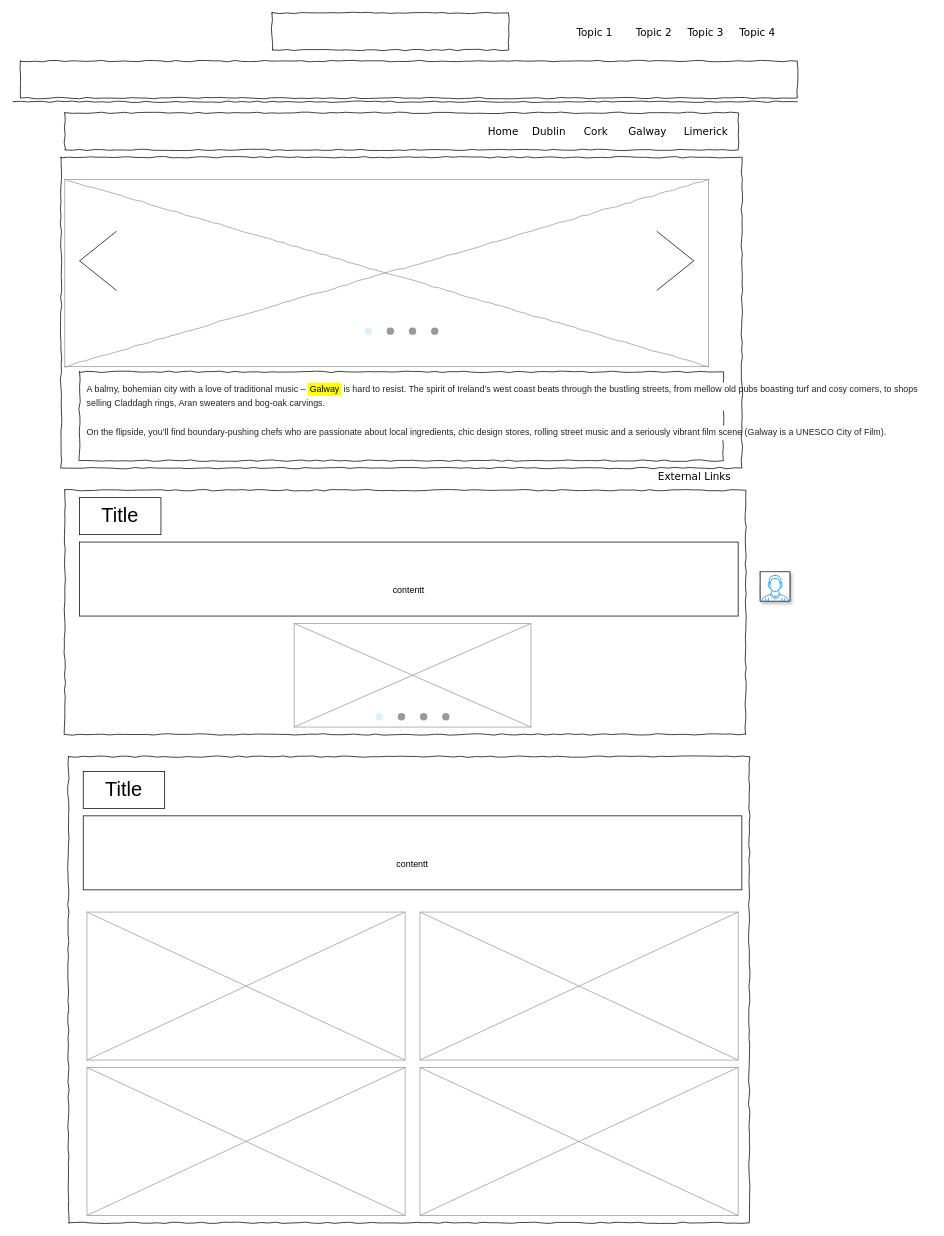
The diagram is 944 pixels wide and 1236 high, and some of its shapes have lost their labels. The shapes that lost their labels are listed below. From the top down, each one's centre as x and y in pixels, then its label:
At [390,31]: "Welcome to Ireland".
At [408,79]: "Christmas & New Year Special: Enjoy 10% to 20% Discount!".
